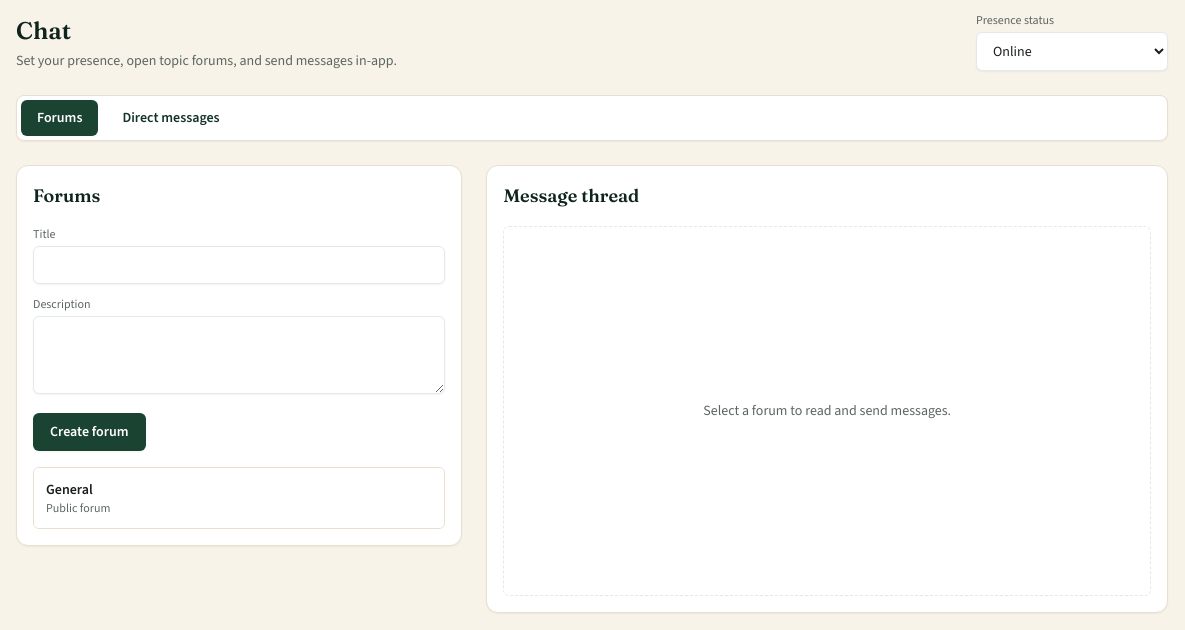
Test: public forum › renders server summaries in approved order and reacts through the channel route
Click the button "General Public forum" at (69, 490), box 34,468 -> 444,528
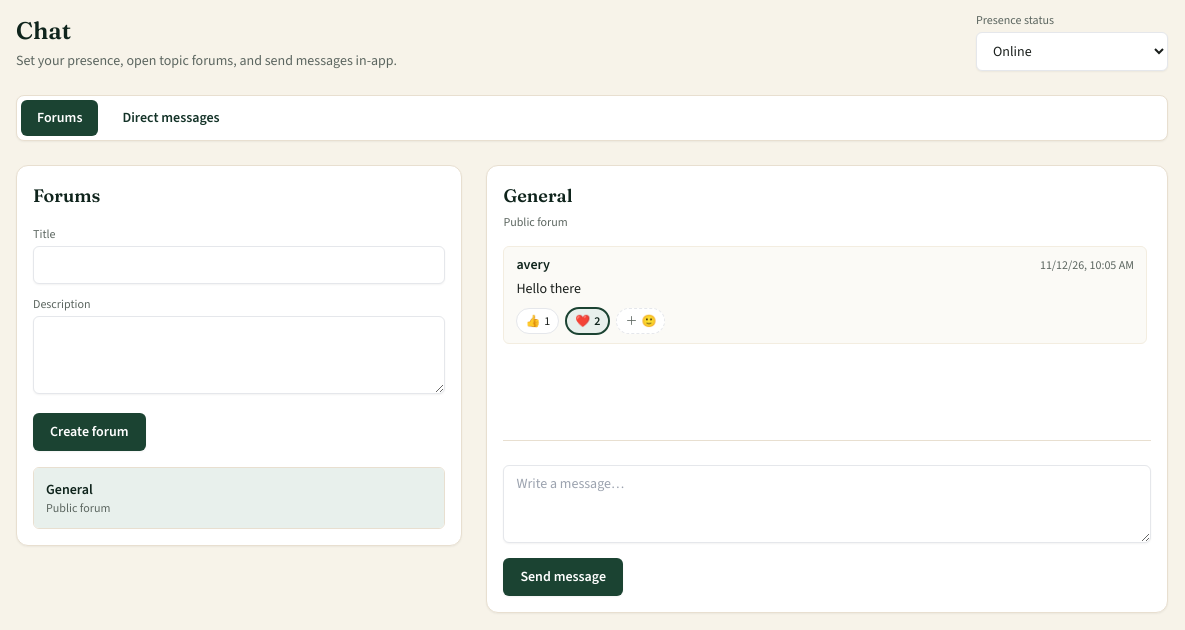
Click the button named "reaction" at (588, 321), box 565,307 -> 610,335
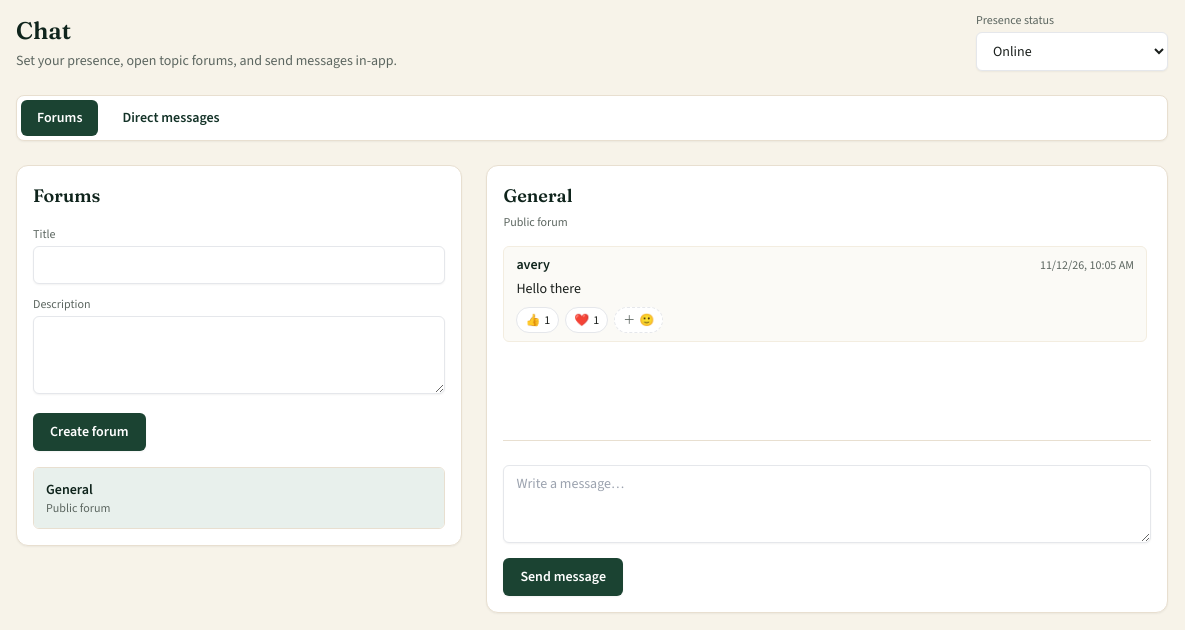
Expected: the button named "Heart, 1 reaction" is shown, 565,307 -> 608,333
